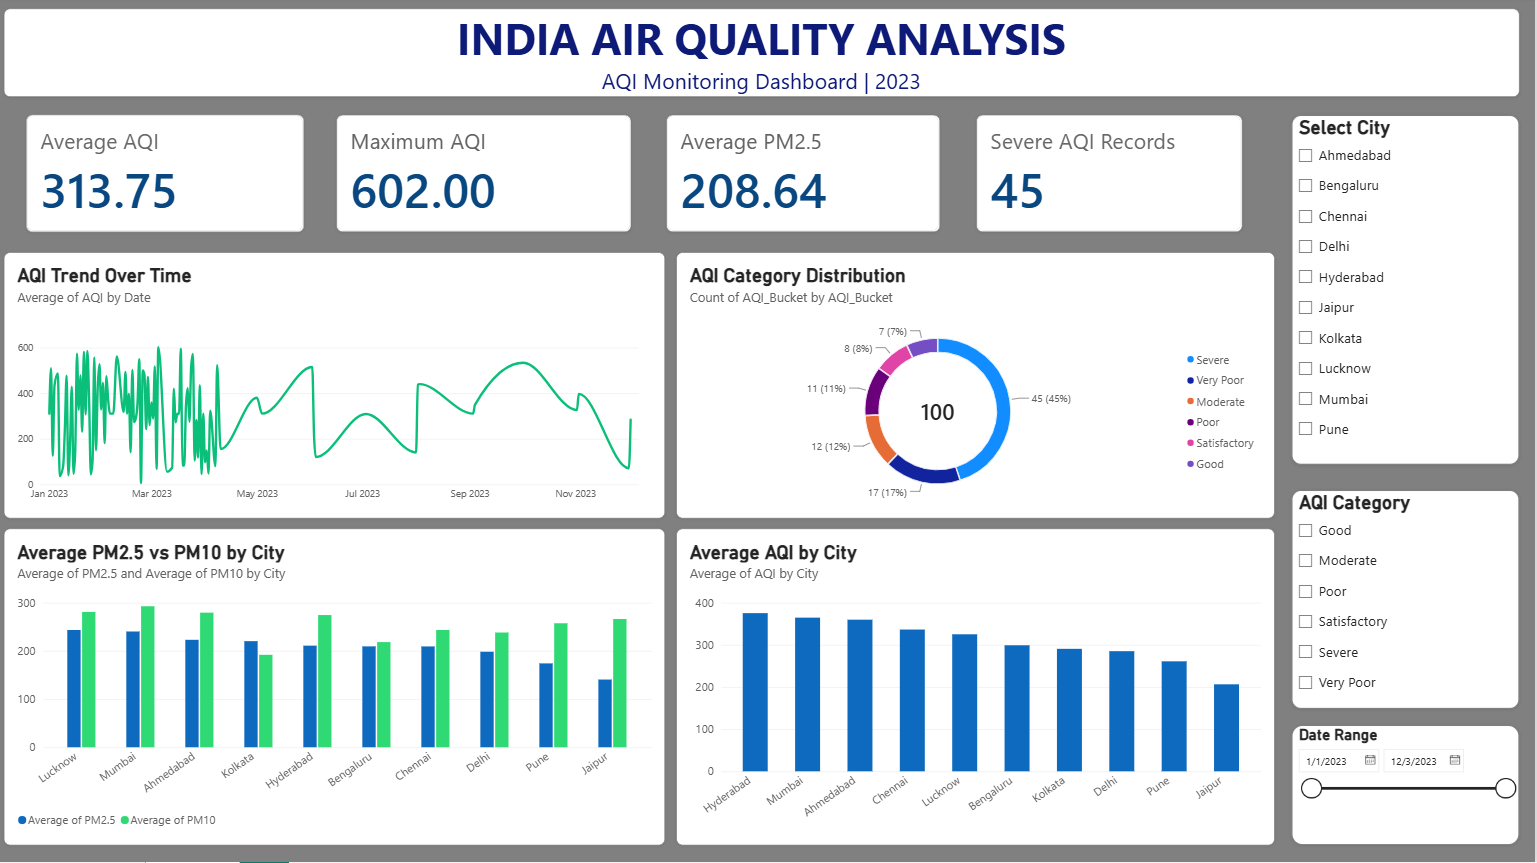

The page's visual inventory and layout, read from the dashboard file:
{"tool":"powerbi","page":{"name":"Page 1","canvas":[1920,1080],"ordinal":0},"visuals":[{"type":"cardVisual","fields":{"Data":["Avg(india_aqi_cleaned.AQI)"]},"box":[38.3,148.3,346.7,146.7],"z":0},{"type":"cardVisual","fields":{"Data":["Max(india_aqi_cleaned.AQI)"]},"box":[425,148.3,368.3,146.7],"z":1000},{"type":"cardVisual","fields":{"Data":["Avg(india_aqi_cleaned.PM2.5)"]},"box":[836.7,148.3,341.7,146.7],"z":2000},{"type":"cardVisual","fields":{"Data":["CountNonNull(india_aqi_cleaned.AQI)"]},"box":[1223.3,148.3,331.7,146.7],"z":3000},{"type":"lineChart","title":"AQI Trend Over Time","fields":{"Category":["india_aqi_cleaned.Date"],"Y":["Avg(india_aqi_cleaned.AQI)"]},"box":[11.7,320,825,331.7],"z":4000},{"type":"clusteredColumnChart","title":"Average AQI by City","fields":{"Category":["india_aqi_cleaned.City"],"Y":["Avg(india_aqi_cleaned.AQI)"]},"box":[850,663.3,746.7,395],"z":5000},{"type":"donutChart","title":"AQI Category Distribution","fields":{"Category":["india_aqi_cleaned.AQI_Bucket"],"Y":["CountNonNull(india_aqi_cleaned.AQI_Bucket)"]},"box":[850,320,746.7,331.7],"z":6000},{"type":"clusteredColumnChart","title":"Average PM2.5 vs PM10 by City","fields":{"Category":["india_aqi_cleaned.City"],"Y":["Avg(india_aqi_cleaned.PM2.5)","Avg(india_aqi_cleaned.PM10)"]},"box":[11.7,663.3,825,395],"z":7000},{"type":"slicer","fields":{"Values":["india_aqi_cleaned.City"]},"box":[1616.7,148.3,285,436.7],"z":8000},{"type":"slicer","fields":{"Values":["india_aqi_cleaned.AQI_Bucket"]},"box":[1616.7,615,285,273.3],"z":9000},{"type":"slicer","fields":{"Values":["india_aqi_cleaned.Date"]},"box":[1616.7,908.3,285,150],"z":10000},{"type":"textbox","box":[11.7,15,1890,110],"z":10001}]}

Visuals, with their boxes in screenshot pixels (x1, y1, x2, y2), scaled from the page's 1920x1080 canvas onto the 1537x863 screenshot:
cardVisual - Avg(india_aqi_cleaned.AQI): <region>31, 119, 308, 236</region>
cardVisual - Max(india_aqi_cleaned.AQI): <region>340, 119, 635, 236</region>
cardVisual - Avg(india_aqi_cleaned.PM2.5): <region>670, 119, 943, 236</region>
cardVisual - CountNonNull(india_aqi_cleaned.AQI): <region>979, 119, 1245, 236</region>
"AQI Trend Over Time" lineChart: <region>9, 256, 670, 521</region>
"Average AQI by City" clusteredColumnChart: <region>680, 530, 1278, 846</region>
"AQI Category Distribution" donutChart: <region>680, 256, 1278, 521</region>
"Average PM2.5 vs PM10 by City" clusteredColumnChart: <region>9, 530, 670, 846</region>
slicer - india_aqi_cleaned.City: <region>1294, 119, 1522, 467</region>
slicer - india_aqi_cleaned.AQI_Bucket: <region>1294, 491, 1522, 710</region>
slicer - india_aqi_cleaned.Date: <region>1294, 726, 1522, 846</region>
textbox: <region>9, 12, 1522, 100</region>
